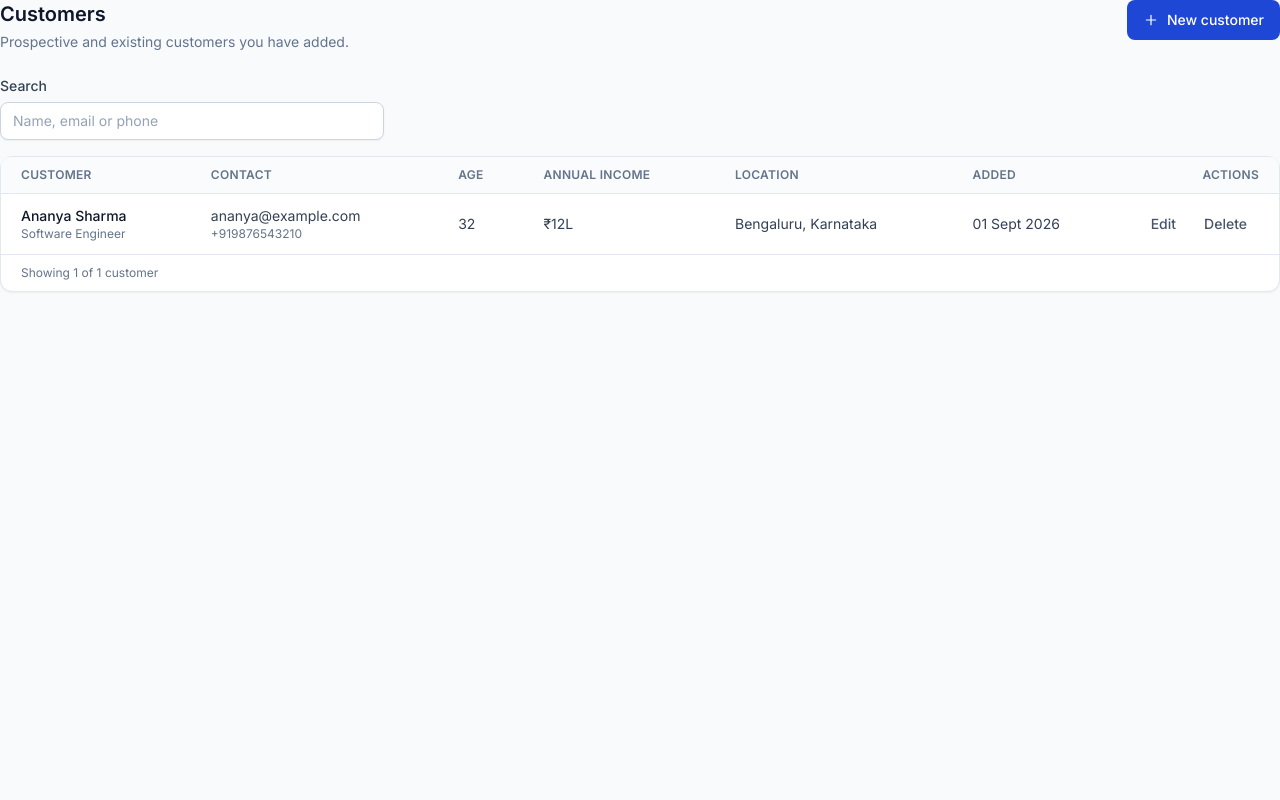
Test: <CustomersPage /> row actions › deletes on confirmation and refreshes the list
Expected: the text "ananya@example.com" is shown, [211,207,360,224]
Click the button with aria-label "Delete Ananya Sharma" at (1226, 224), box [1192,208,1259,240]
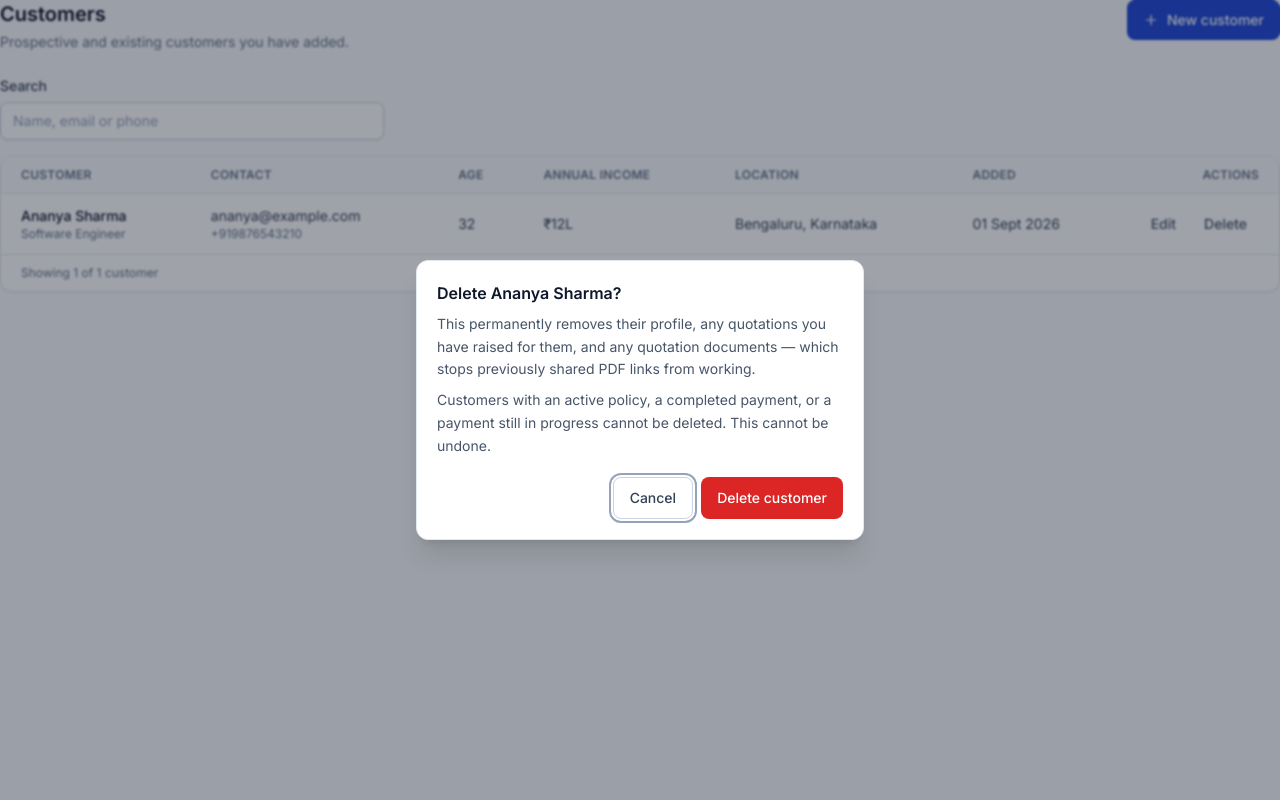
Click the button "Delete customer" at (772, 498), box [701,477,843,519]
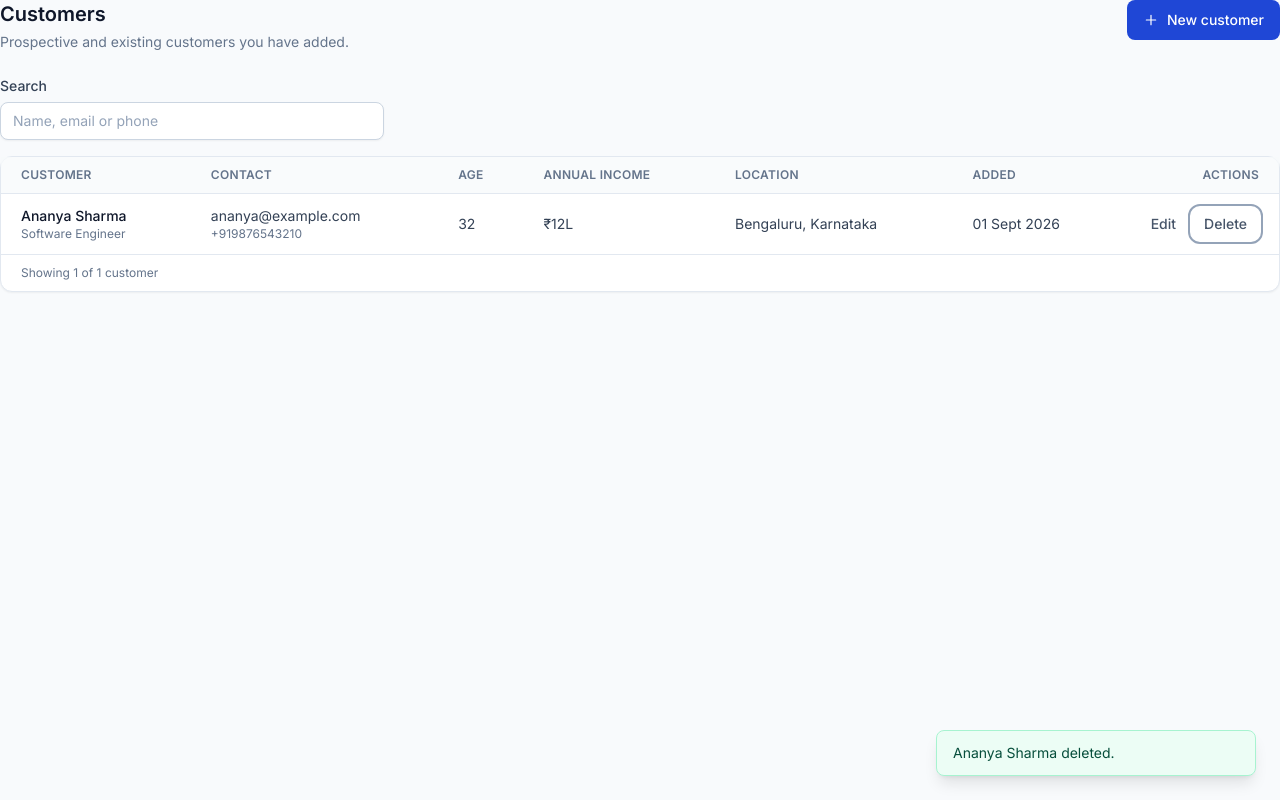
Expected: the dialog is gone
Expected: the text "Ananya Sharma deleted." is shown, [936,730,1256,776]
